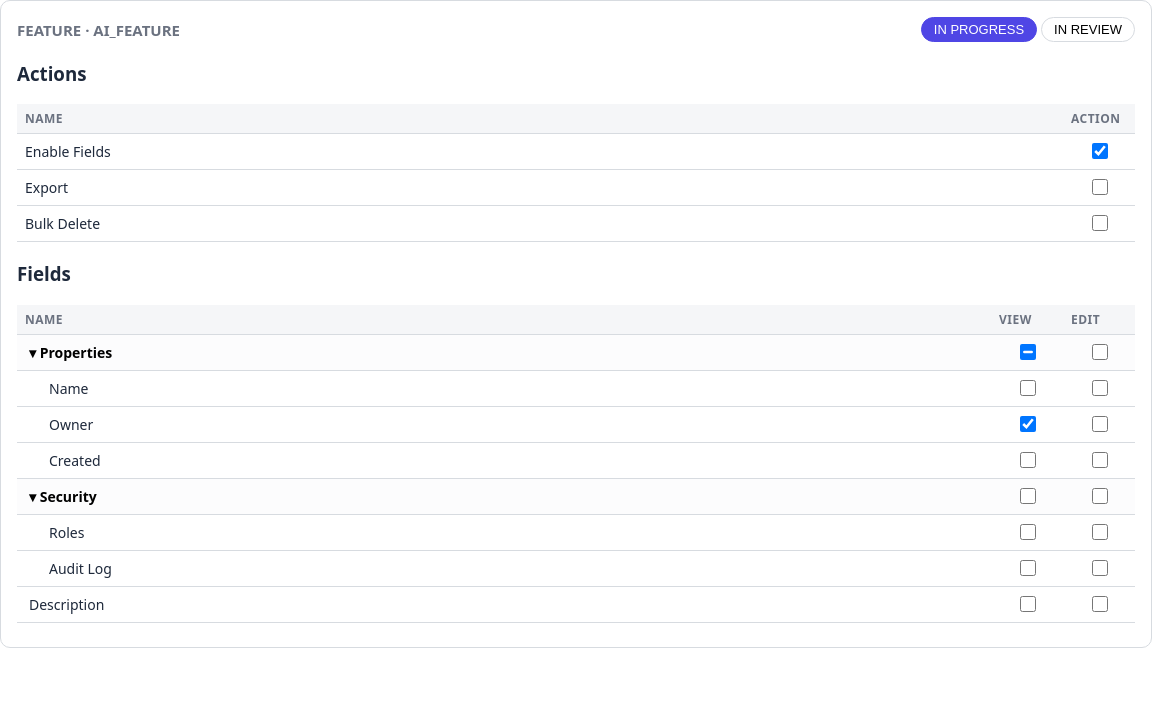
it: CheckboxPageContainer (§3, end-to-end UI) › hides the FIELD table when the enable_fields controller is unchecked
Check: the table named "Fields" is shown, box [17,305,1135,623]
Click the checkbox named "Enable Fields" at (1100, 151), box [1092,143,1108,159]
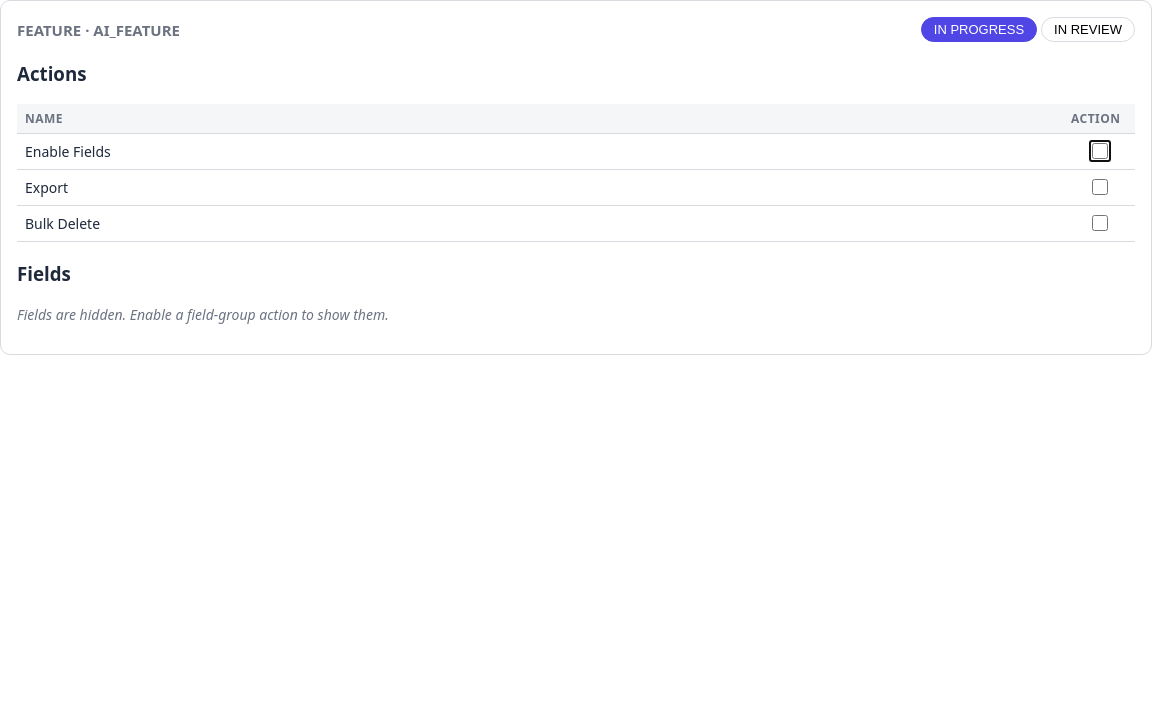
Check: the text "Fields are hidden. Enable a field-group action to show them." is shown, box [17,305,389,324]
